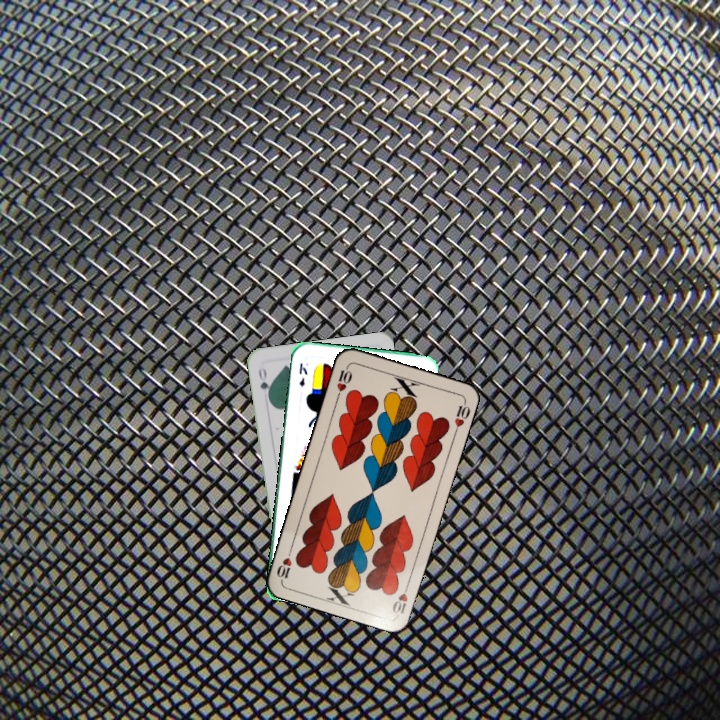EK: (295, 359, 310, 389)
GO: (254, 363, 273, 402)
H10: (388, 578, 412, 616), (333, 362, 355, 401)
